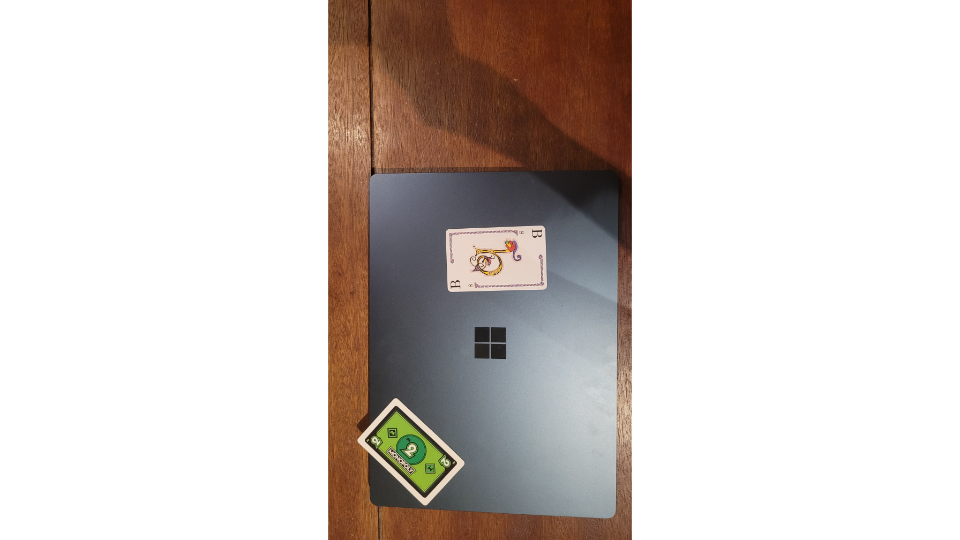B: (443, 222, 552, 294)
